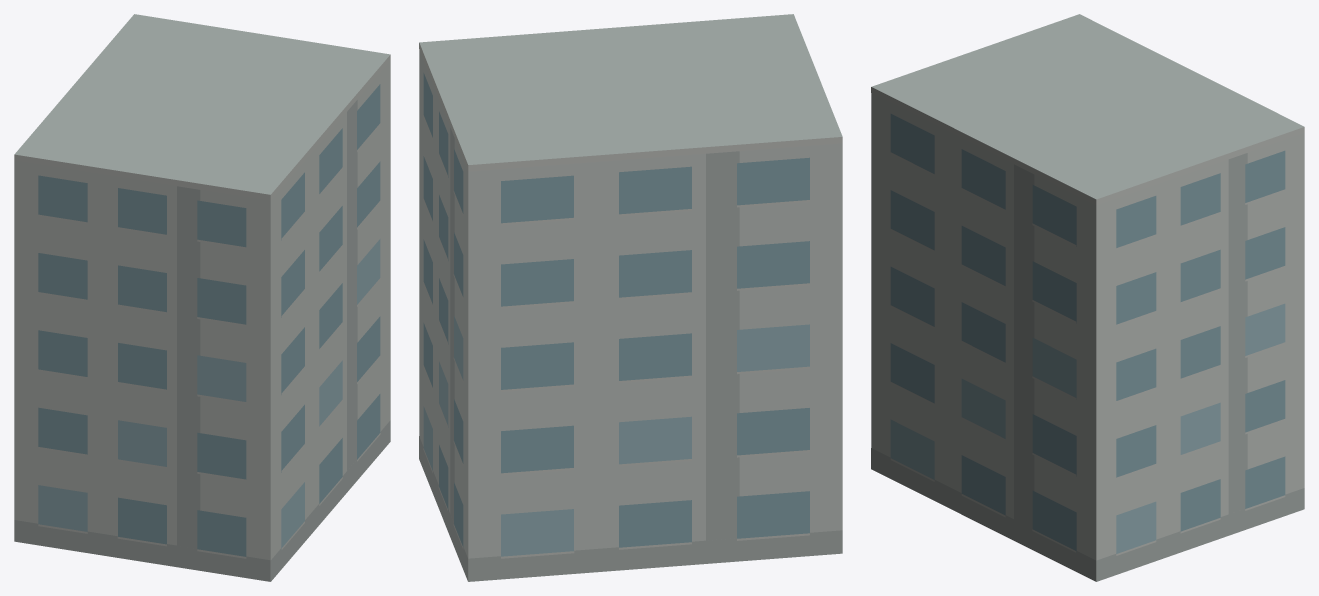
File: survey-upis-32719273.glb
3 views of the same model, side by side, from view 1: azimuth 30°, elevation 25°; view 2: azimuth 150°, elevation 25°; view 3: azimuth 270°, elevation 25° (orthographic). The views are drawn at different scales.
Visible parts, largest first — view 1: survey-upis-32719273.tmp; view 2: survey-upis-32719273.tmp; view 3: survey-upis-32719273.tmp.
Part boxes in pixels (x1,y1,x2,y2): survey-upis-32719273.tmp: [14, 14, 390, 581]; survey-upis-32719273.tmp: [419, 14, 842, 581]; survey-upis-32719273.tmp: [871, 14, 1304, 581].
Size of the model in its own units: 15.98 by 15.35 by 15.78.
